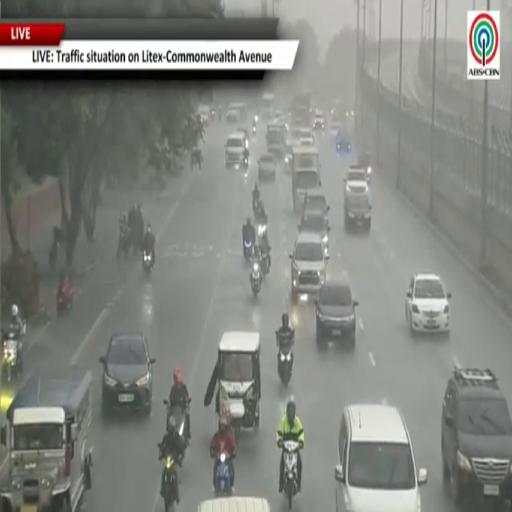car: (335, 404, 427, 511), (442, 368, 511, 509), (99, 332, 155, 415), (289, 233, 329, 303), (316, 280, 358, 346), (406, 274, 451, 333), (298, 213, 330, 255), (303, 191, 329, 218), (225, 133, 245, 168), (258, 153, 276, 180), (358, 152, 372, 183), (336, 127, 351, 153), (297, 127, 314, 145), (198, 105, 211, 126), (237, 127, 249, 149), (313, 111, 324, 131), (330, 118, 342, 136), (299, 137, 314, 147)
jeepney: (218, 332, 260, 438), (198, 496, 270, 511)
motorcycle: (2, 324, 25, 382), (164, 399, 190, 444), (283, 440, 299, 509), (276, 331, 294, 386), (161, 454, 178, 511), (215, 452, 232, 497), (49, 227, 62, 271), (57, 283, 74, 315), (249, 261, 262, 296), (117, 229, 132, 258), (142, 250, 154, 276), (49, 240, 59, 271), (243, 239, 253, 261), (261, 252, 269, 277), (257, 220, 267, 237), (252, 197, 259, 217), (243, 157, 248, 170), (211, 109, 215, 121), (252, 124, 256, 135)
truck: (0, 365, 92, 511), (291, 146, 321, 211), (344, 166, 372, 231), (291, 91, 312, 126), (266, 123, 286, 158), (261, 93, 274, 120)
